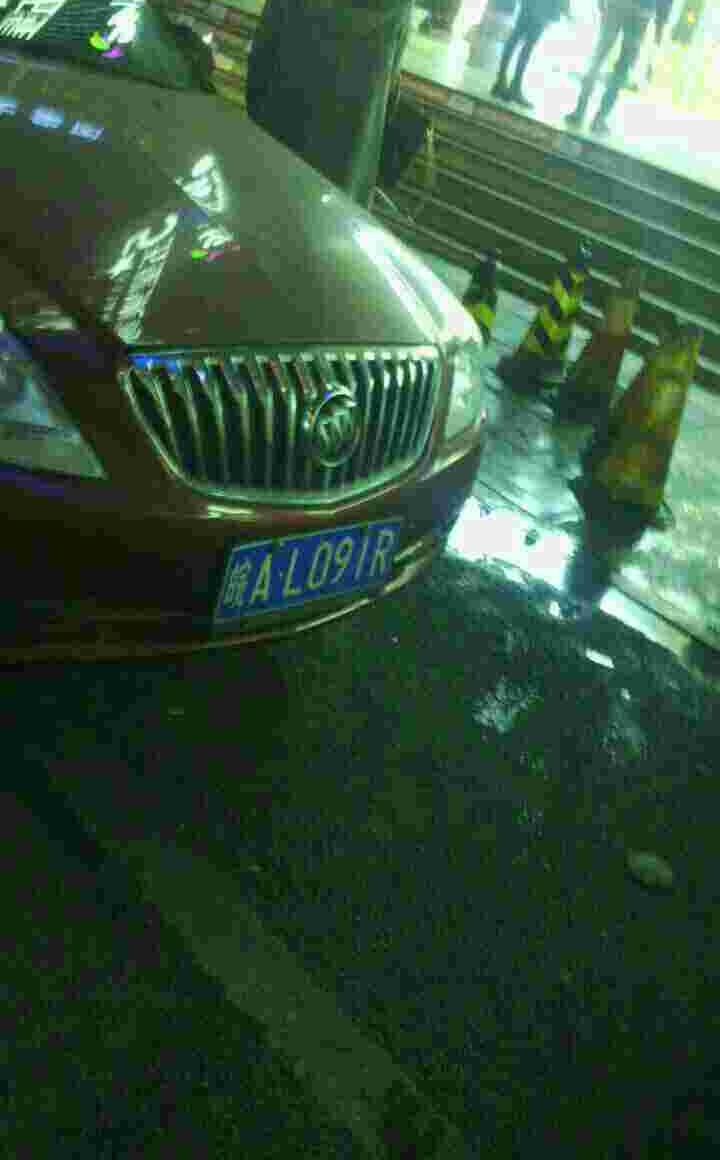car: (206, 528, 425, 616)
